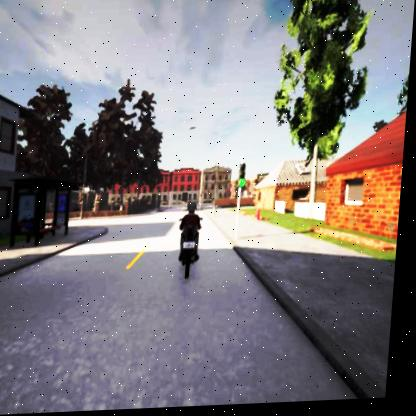motobike: (179, 201, 208, 281)
